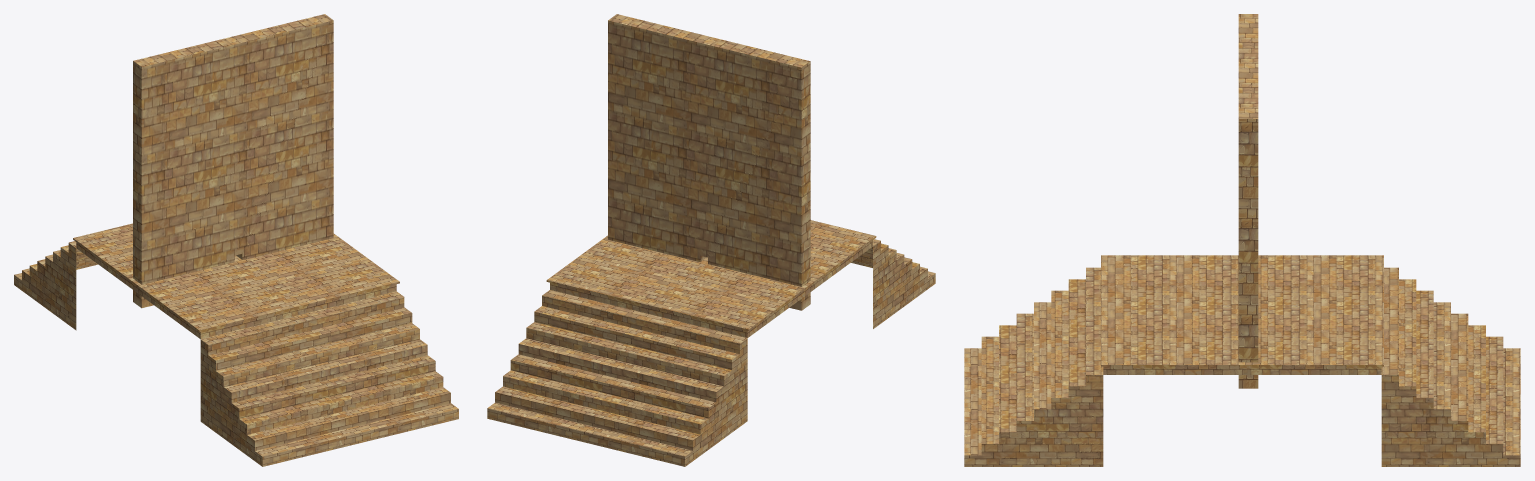
The model's file is platfromHole.glb.
3 renders of one model, left to right at view 1: azimuth 30°, elevation 25°; view 2: azimuth 150°, elevation 25°; view 3: azimuth 270°, elevation 25°, orthographic. The views are drawn at different scales.
Parts seen in each view (by area): view 1: Object_3, Cube; view 2: Object_3, Cube; view 3: Object_3, Cube.
Part boxes in pixels (x1,y1,x2,y2): Object_3: (14, 223, 458, 466); Cube: (133, 14, 333, 308); Object_3: (487, 220, 935, 466); Cube: (608, 14, 810, 310); Object_3: (964, 255, 1520, 466); Cube: (1238, 14, 1258, 388).
Size of the model in its own units: 4.86 by 7.18 by 10.44.
2 materials, 1 textured.
